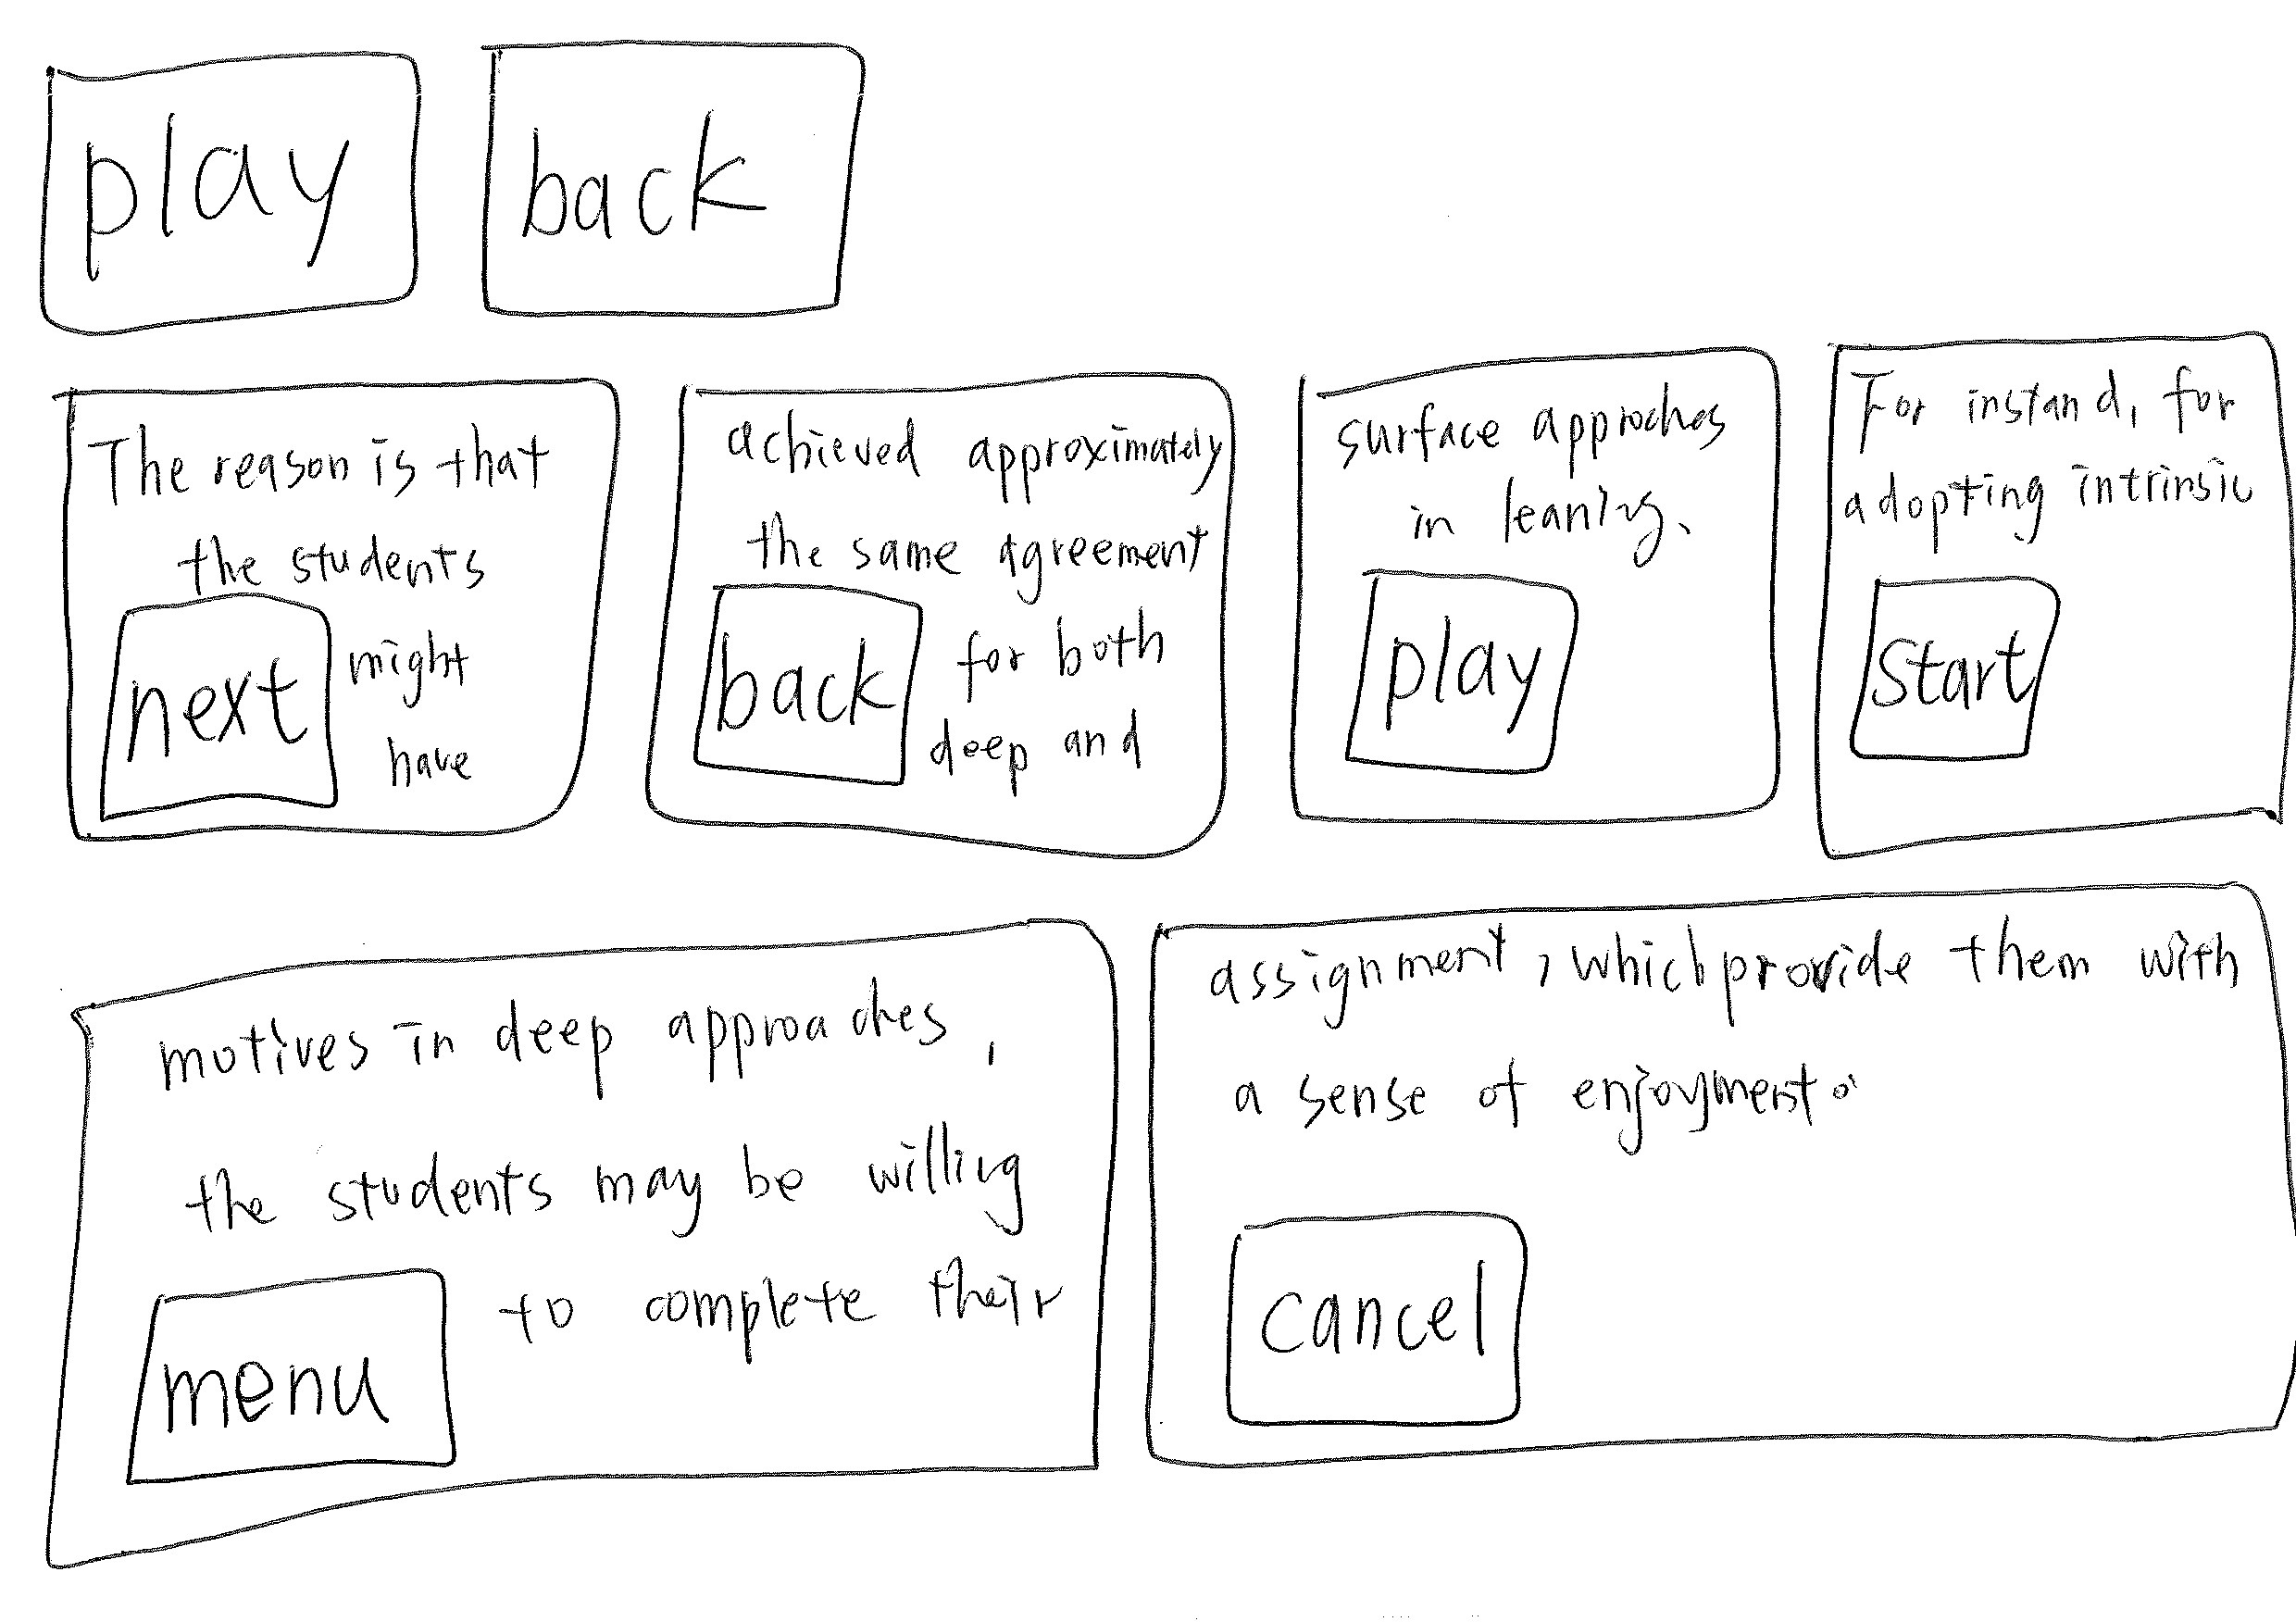back: (448, 21, 897, 351), (665, 549, 932, 795)
cancel: (1197, 1201, 1562, 1434)
double: (18, 920, 1129, 1592), (1129, 874, 2296, 1503)
menu: (107, 1260, 462, 1496)
next: (98, 586, 346, 834)
play: (4, 28, 434, 353), (1313, 553, 1606, 790)
quadruple: (616, 349, 1269, 902), (25, 363, 642, 867), (1264, 321, 1819, 862), (1801, 318, 2296, 865)
row: (18, 879, 2296, 1622), (18, 305, 2296, 878), (18, 5, 2296, 360)
small-title: (160, 987, 1032, 1088), (1201, 936, 2252, 997), (105, 411, 563, 518), (718, 407, 1215, 502), (1848, 353, 2252, 451), (1341, 391, 1722, 467)
start: (1850, 563, 2054, 783)
text: (502, 1136, 1055, 1332), (174, 1109, 1044, 1229), (958, 521, 1190, 788), (1223, 1050, 1859, 1138), (751, 504, 1208, 586), (374, 537, 506, 762), (1848, 470, 2275, 528), (1427, 470, 1685, 563), (176, 535, 467, 586)
